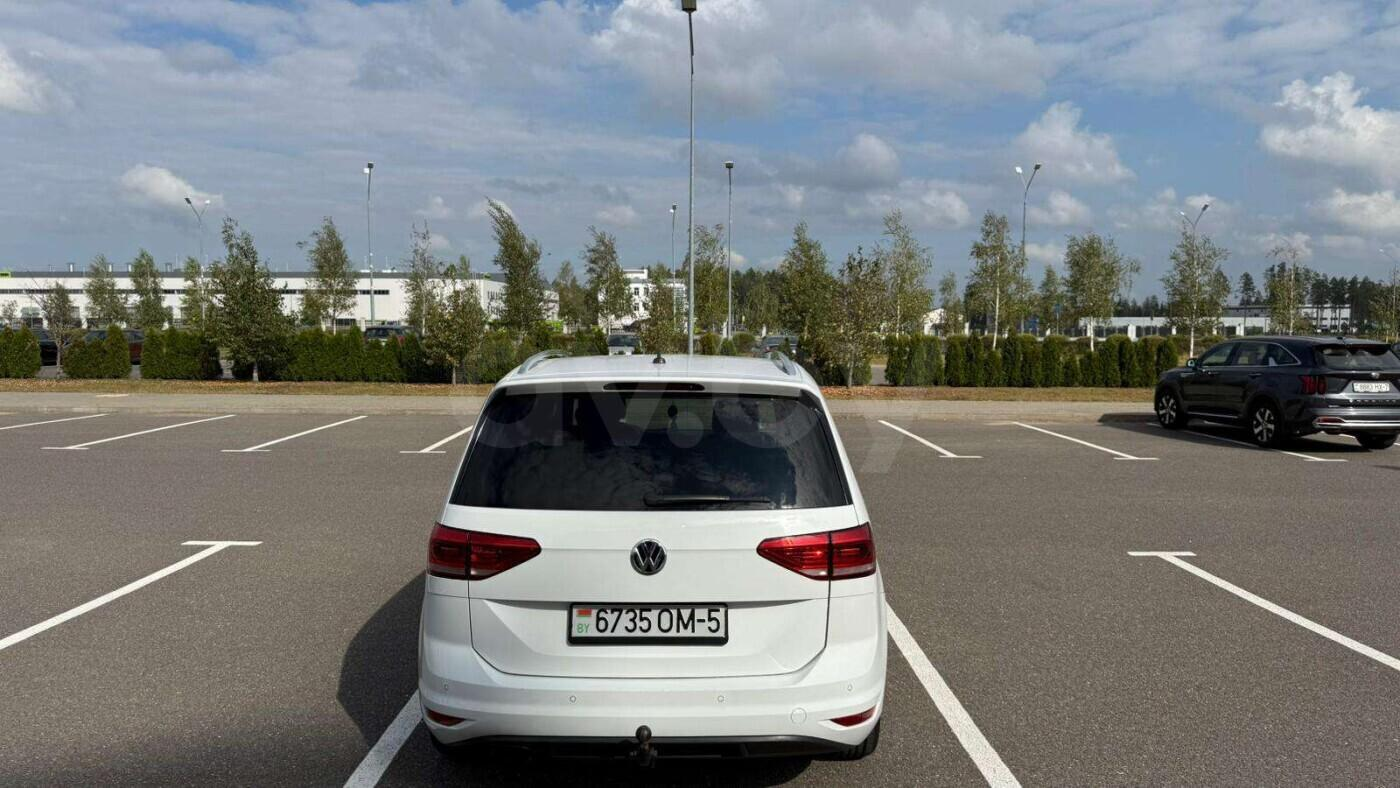Touran_2015: (406, 349, 887, 773)
